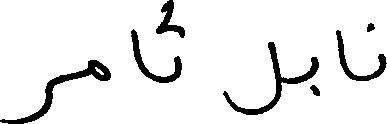X: (225, 37, 280, 119), (0, 74, 53, 123), (89, 55, 110, 85), (131, 24, 142, 77), (337, 25, 347, 80), (174, 20, 181, 85), (310, 52, 317, 100), (379, 49, 386, 80)
